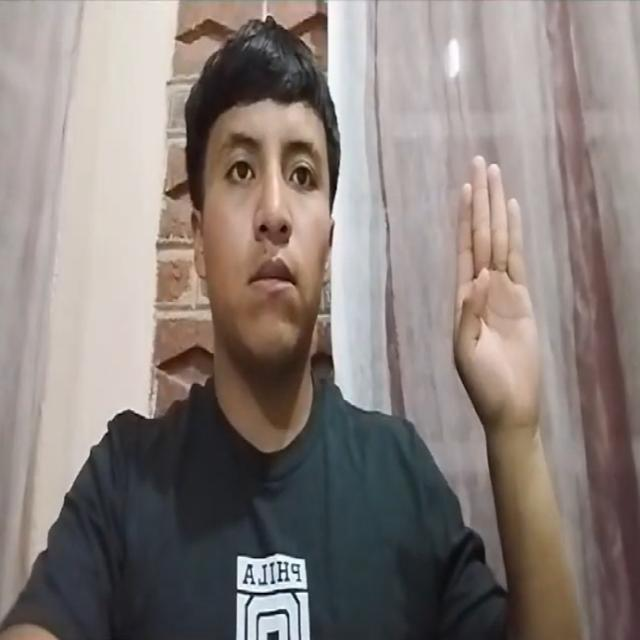B: (431, 151, 556, 428)
